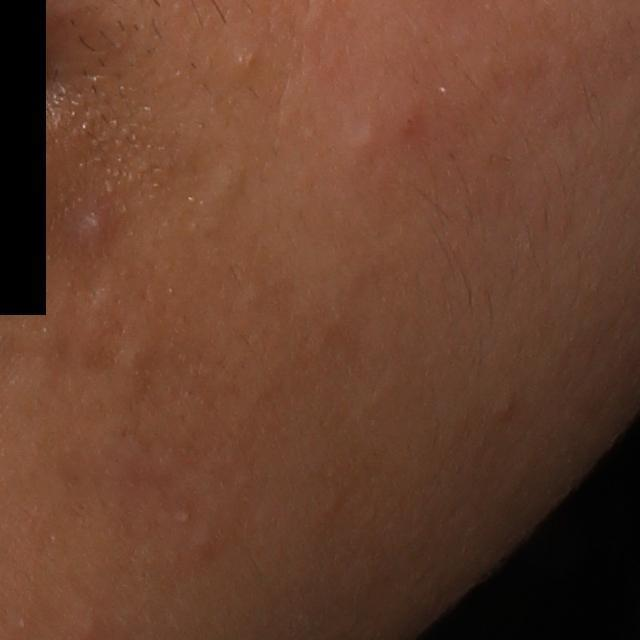comedo: (344, 114, 382, 156), (492, 390, 520, 427), (78, 617, 103, 640), (174, 508, 194, 528)
papule: (77, 208, 110, 238)
